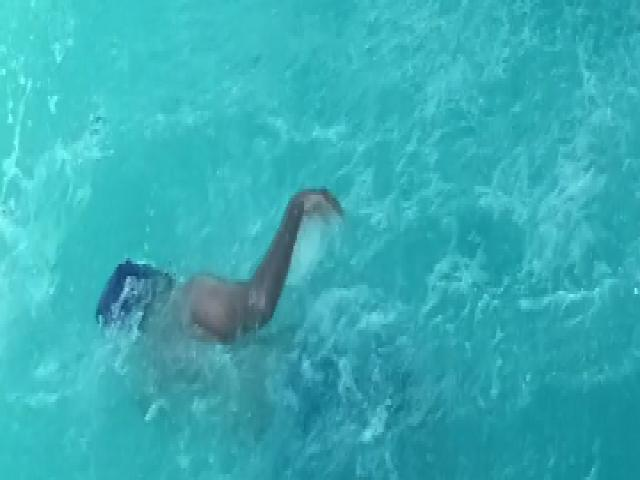swimming: (97, 192, 414, 436)
